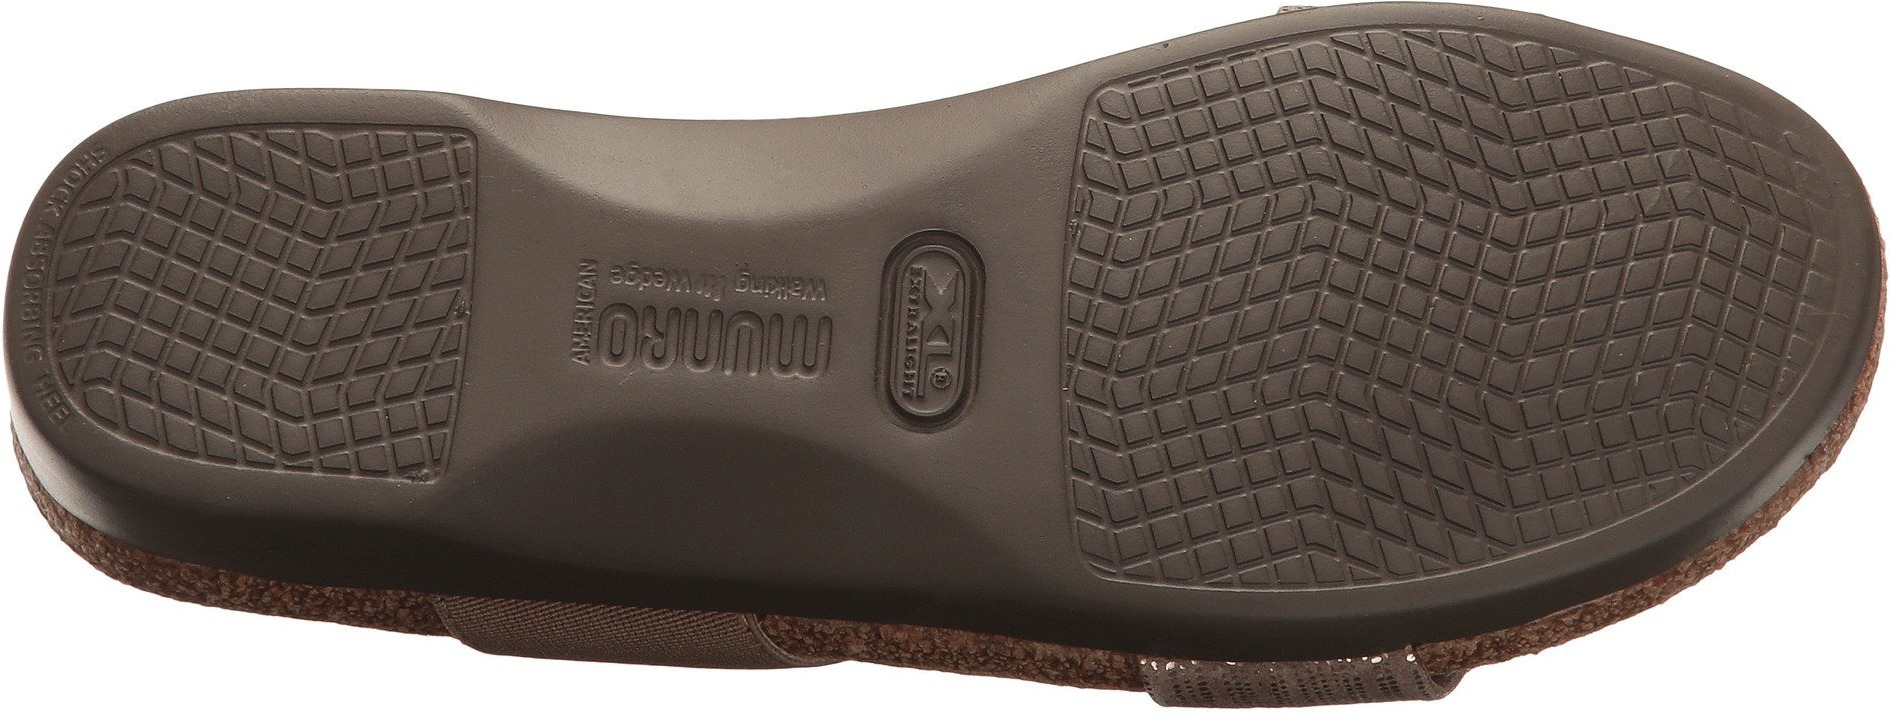circle: (569, 252, 712, 385), (894, 344, 950, 397)
quad: (1370, 82, 1720, 398), (1094, 105, 1368, 385), (105, 177, 367, 435), (1173, 391, 1391, 581)
text: (718, 265, 856, 405), (569, 252, 712, 385), (895, 271, 958, 334), (894, 344, 950, 397)
